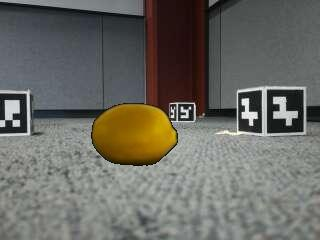lemon: (93, 104, 178, 165)
